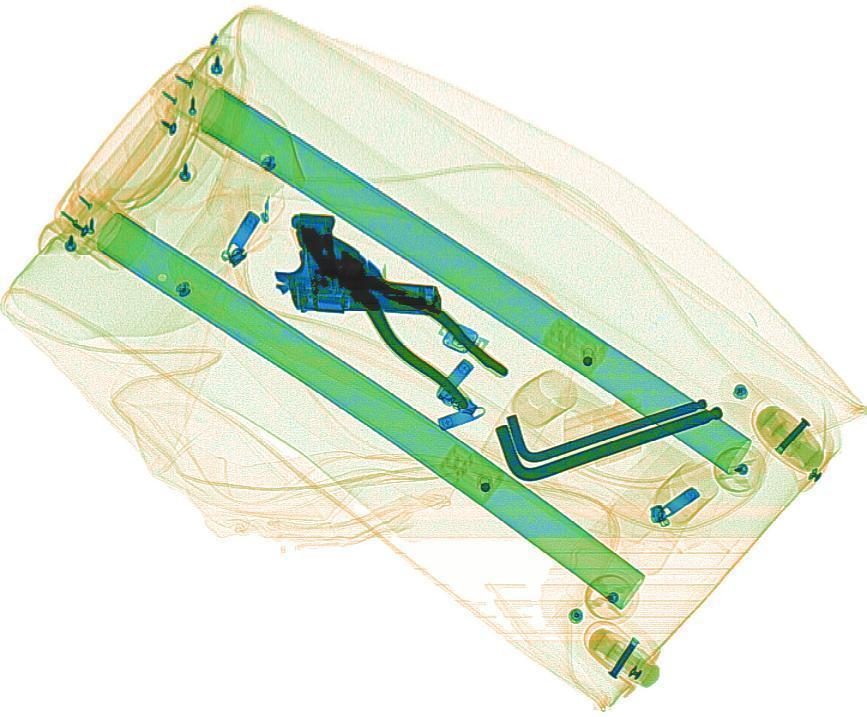Gun: (270, 212, 450, 317)
Pliers: (283, 221, 522, 414)
